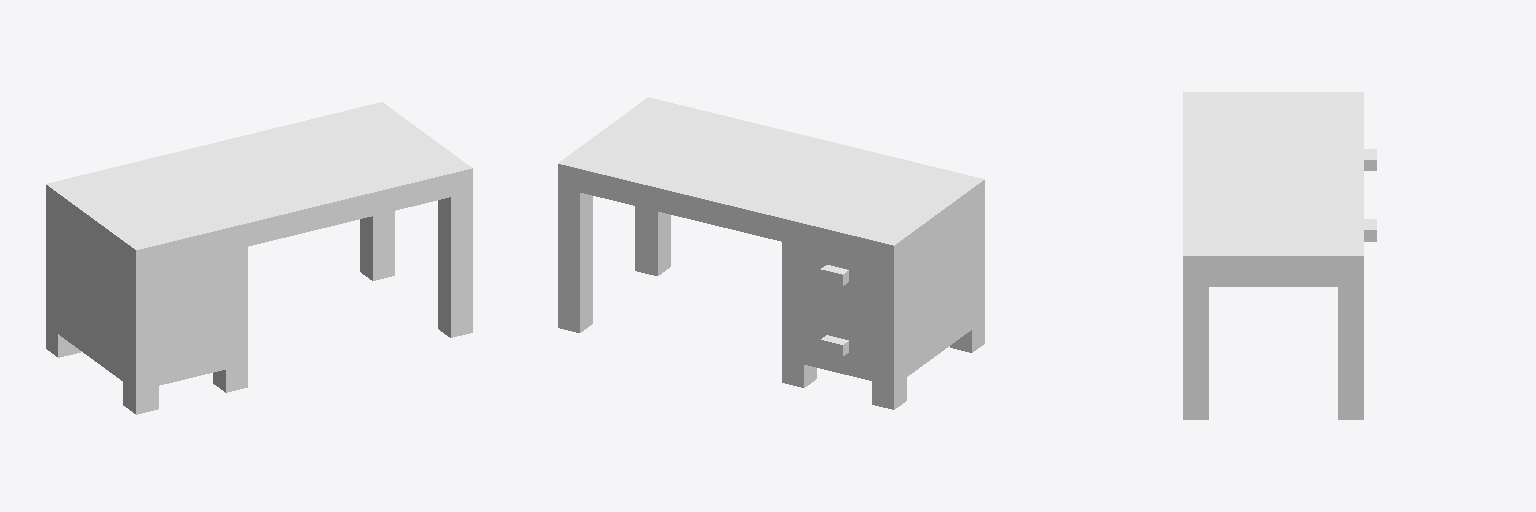
Rendered from bureau.obj.
The picture shows the model from 3 angles: view 1: azimuth 30°, elevation 25°; view 2: azimuth 150°, elevation 25°; view 3: azimuth 270°, elevation 25°; orthographic projection.
Visible parts, largest first — view 1: object 1; view 2: object 1; view 3: object 1.
Boxes of the visible parts, x1,y1,x2,y2 form: object 1: [46, 102, 472, 414]; object 1: [558, 97, 984, 409]; object 1: [1183, 92, 1376, 419].
Size of the model in its own units: 3 by 1.4 by 1.5.